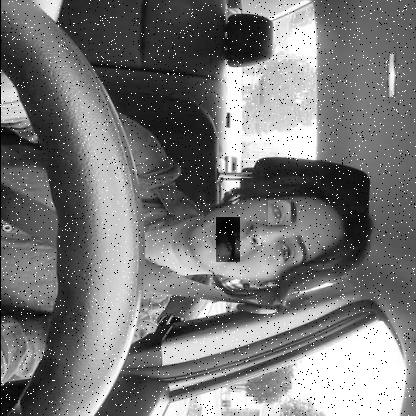seatbelt: (0, 176, 384, 308)
